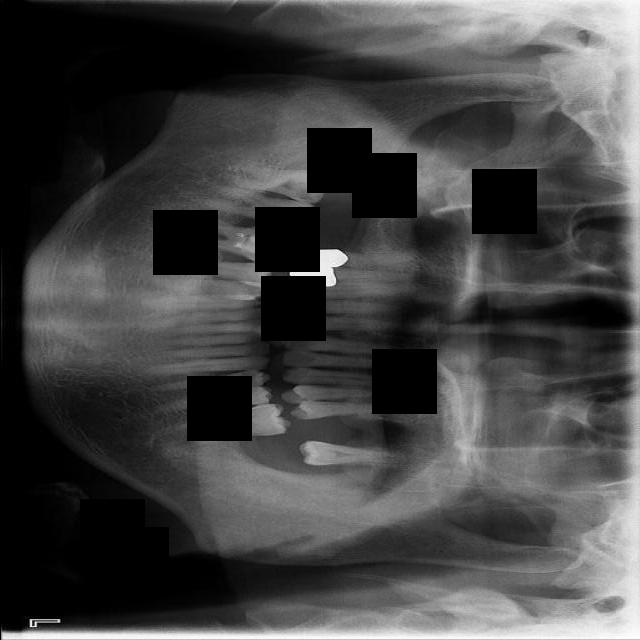52: (230, 213, 287, 272), (292, 248, 348, 270), (289, 264, 336, 287)
73: (39, 600, 49, 606)
BioHorizons Implant: (296, 438, 409, 479)
Implant: (198, 181, 318, 240)
Keystone Dental Implant: (226, 163, 329, 205)
